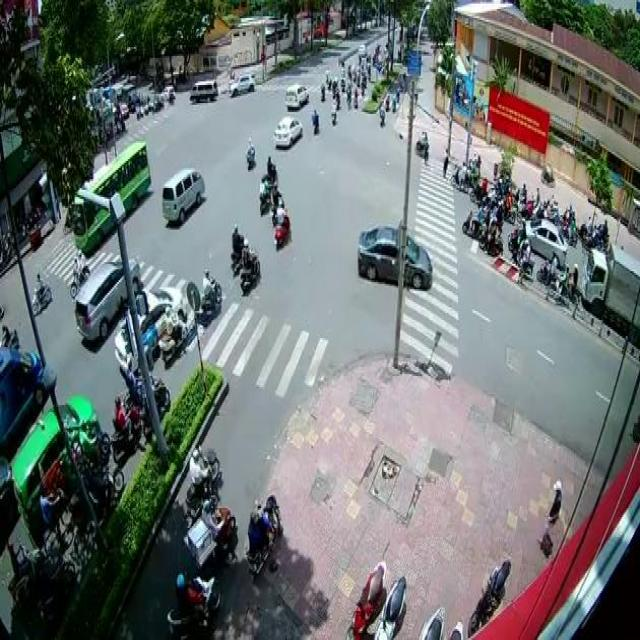bicycle: (39, 486, 72, 554)
bus: (71, 141, 150, 250)
car: (10, 392, 97, 512), (114, 284, 182, 374), (74, 255, 140, 342), (356, 224, 430, 289), (523, 217, 565, 266), (273, 116, 302, 148), (228, 69, 255, 94), (284, 83, 308, 110)
motorcycle: (184, 499, 235, 568), (168, 571, 220, 638), (244, 490, 279, 575), (186, 445, 218, 515), (112, 396, 140, 461), (159, 304, 186, 363), (199, 268, 221, 326), (272, 195, 293, 248), (239, 239, 259, 293), (461, 199, 485, 240), (68, 252, 89, 298), (228, 222, 244, 275), (449, 159, 469, 194), (259, 170, 270, 217), (244, 136, 256, 172), (310, 106, 320, 136)
truck: (582, 244, 640, 340), (0, 347, 47, 452), (162, 167, 204, 224), (31, 271, 52, 313), (188, 78, 216, 101)
